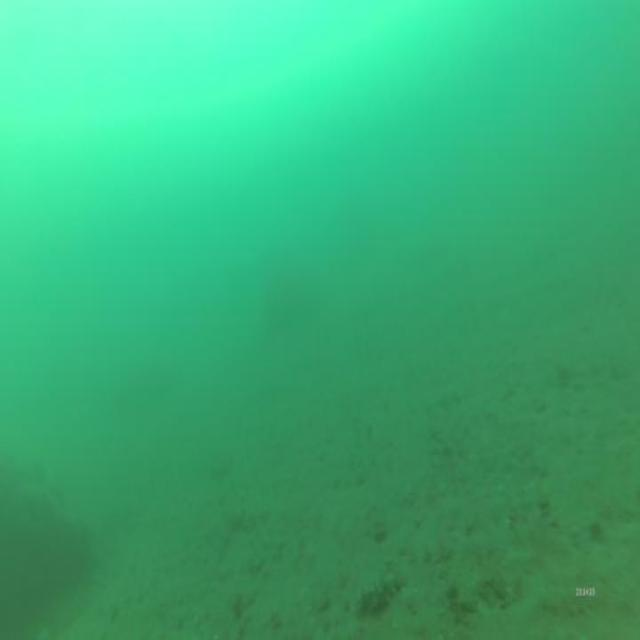holothurian: (358, 564, 404, 618)
